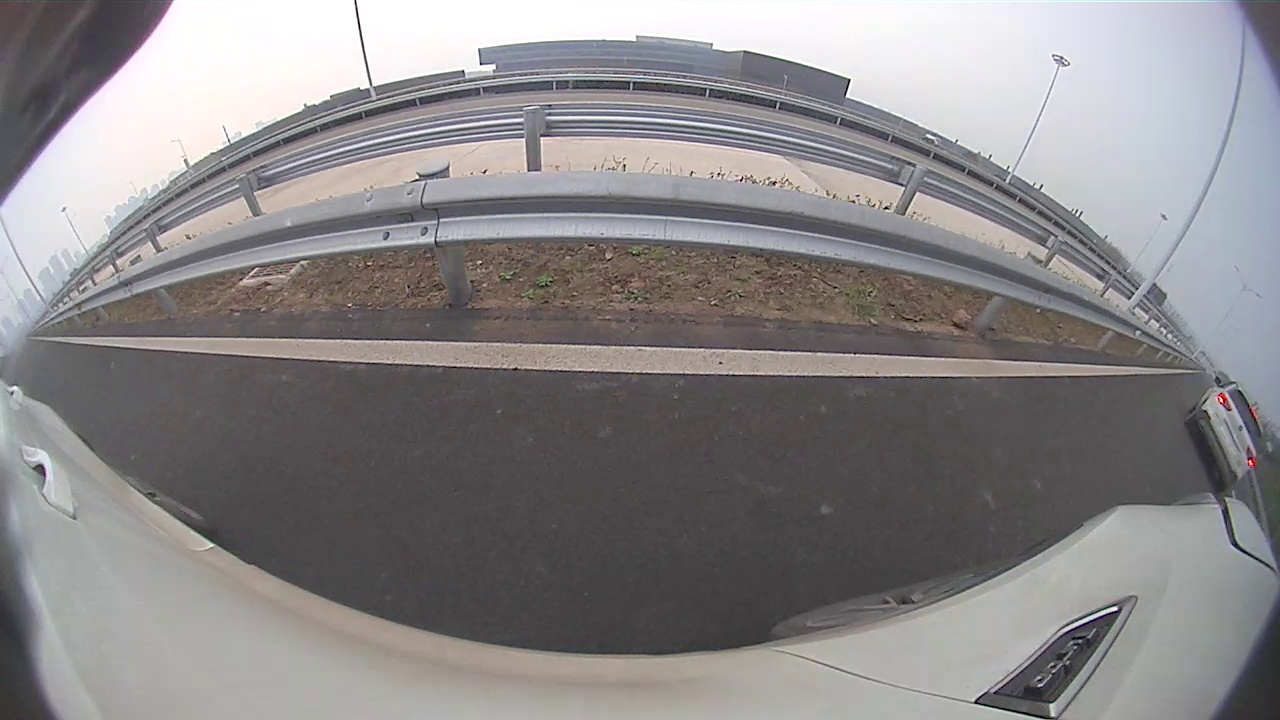car: (368, 147, 517, 243)
front: (504, 186, 514, 211)
rear: (458, 194, 477, 228)
